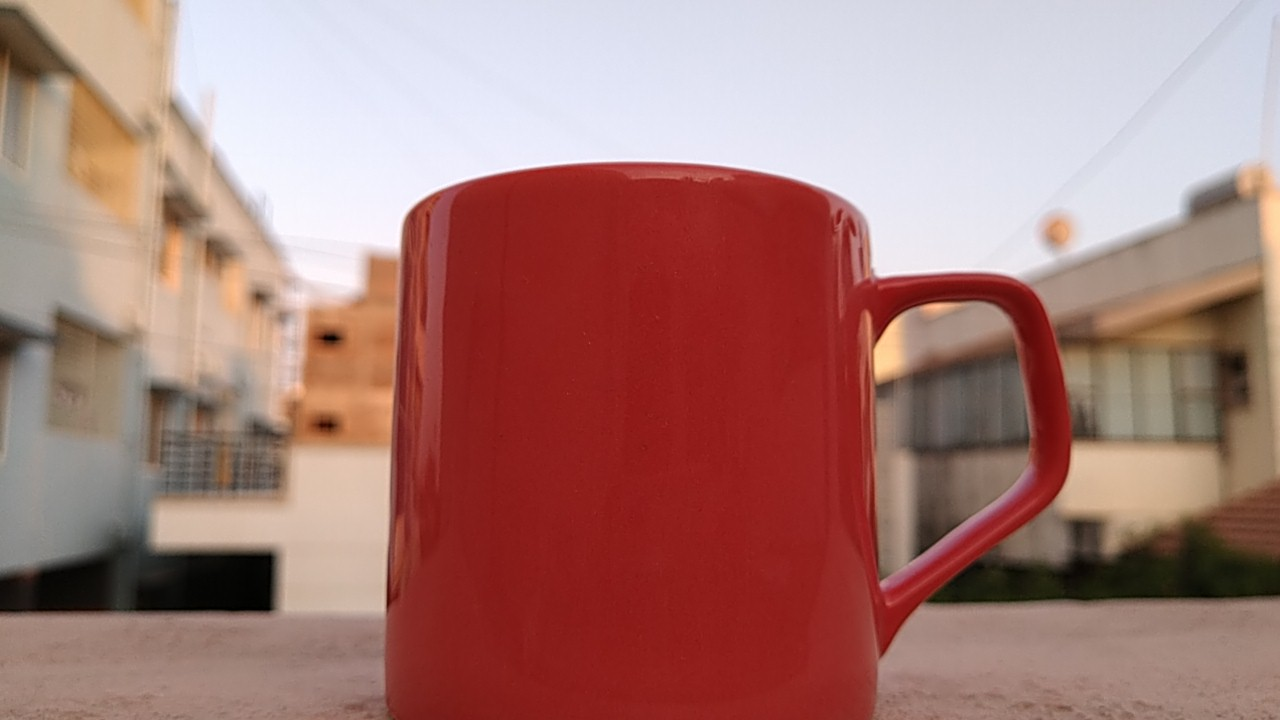cup: (360, 143, 1089, 720)
